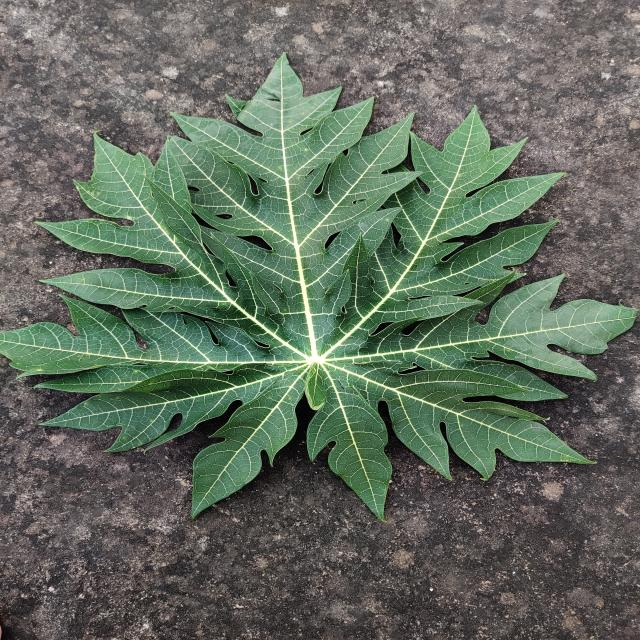papaya: (2, 55, 637, 518)
